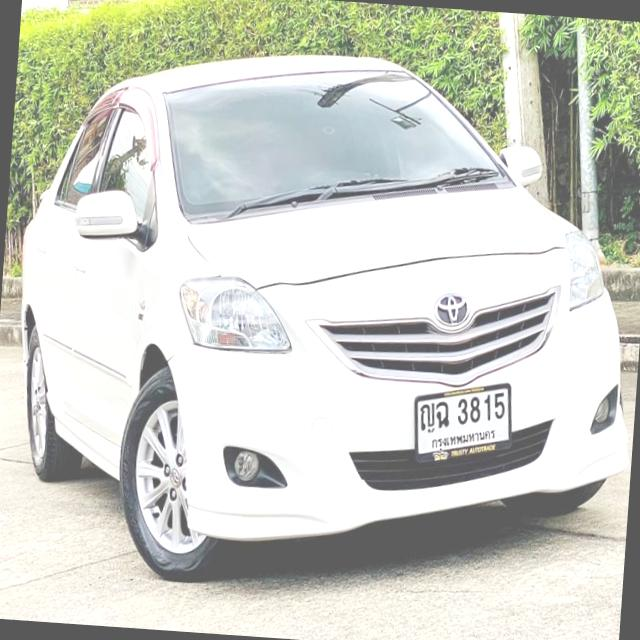license_plate: (410, 373, 520, 468)
